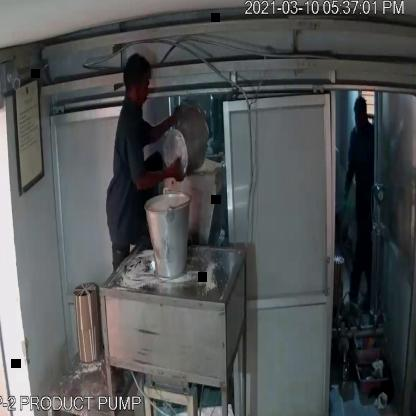no_glove: (127, 155, 187, 201), (142, 108, 188, 151)
